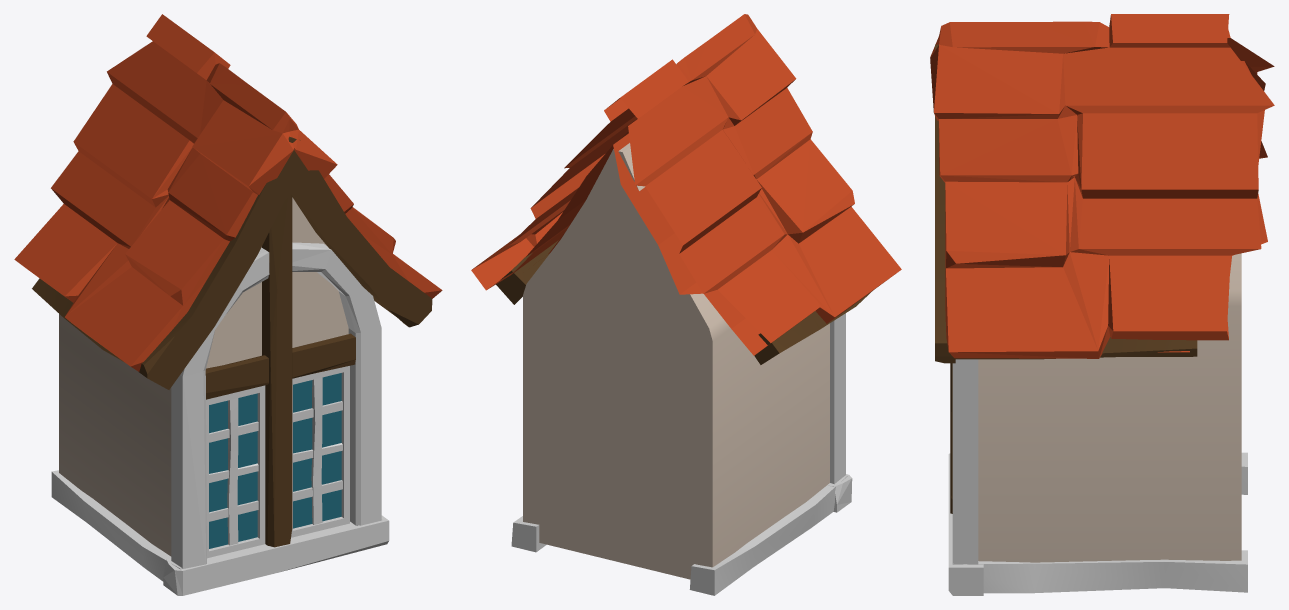
The model's file is SM_dormer_01.fbx.
3 views of the same model, side by side, from view 1: azimuth 30°, elevation 25°; view 2: azimuth 150°, elevation 25°; view 3: azimuth 270°, elevation 25° (orthographic). The views are drawn at different scales.
Parts seen in each view (by area): view 1: Box413786; view 2: Box413786; view 3: Box413786.
Part boxes in pixels (bbox=[...]): Box413786: bbox=[14, 14, 442, 595]; Box413786: bbox=[471, 14, 901, 595]; Box413786: bbox=[930, 14, 1274, 595].
Size of the model in its own units: 106 by 150 by 89.45.
